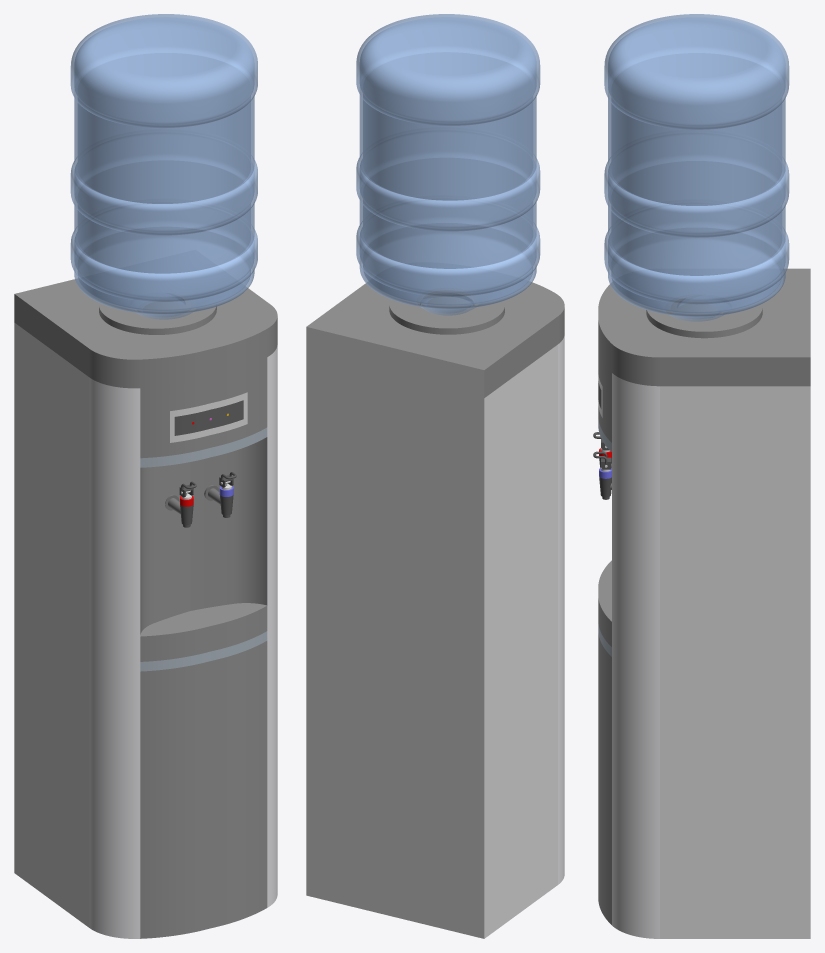
Rendered from دسبنسر مياه(قايمه أجهزة كهربائية).glb.
The picture shows the model from 3 angles, left to right: view 1: azimuth 30°, elevation 25°; view 2: azimuth 150°, elevation 25°; view 3: azimuth 270°, elevation 25°; orthographic projection. The views are drawn at different scales.
Visible parts, largest first — view 1: Geom3D (×6), Geom3D_مبرد; view 2: Geom3D (×4), Geom3D_مبرد; view 3: Geom3D (×4).
Part boxes in pixels (box(x1,y1,x2,y2)): Geom3D (×6): box(14, 14, 277, 938); Geom3D_مبرد: box(170, 392, 247, 442); Geom3D (×4): box(306, 14, 564, 938); Geom3D_مبرد: box(306, 327, 484, 938); Geom3D (×4): box(598, 14, 810, 938).
Bounding box in the file's own units: 0.3 × 1.34 × 0.31.
